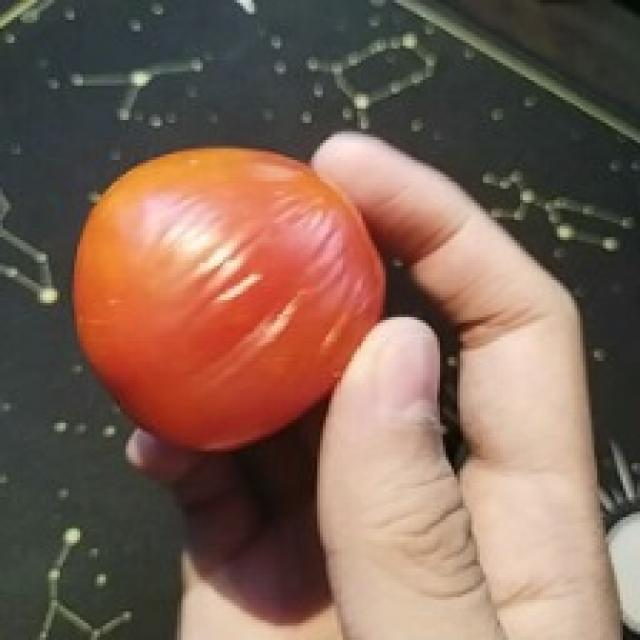Rotten Tomato: (68, 124, 396, 469)
